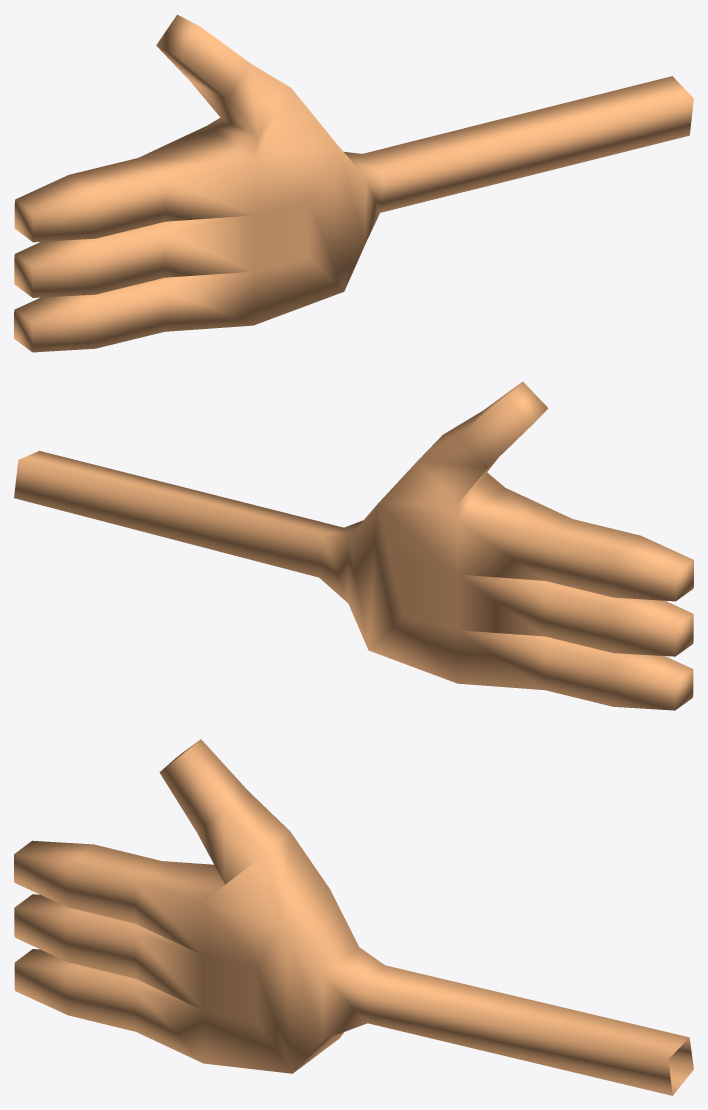
The model's file is Mano_Doofenshmirtz.obj.
3 views of the same model, one above another, from view 1: azimuth 30°, elevation 25°; view 2: azimuth 150°, elevation 25°; view 3: azimuth 330°, elevation 25° (orthographic).
Parts seen in each view (by area): view 1: body.001_Cube.002; view 2: body.001_Cube.002; view 3: body.001_Cube.002.
Boxes of the visible parts, x1=… form: body.001_Cube.002: x1=14, y1=14, x2=693, y2=352; body.001_Cube.002: x1=14, y1=381, x2=693, y2=710; body.001_Cube.002: x1=14, y1=739, x2=693, y2=1095.
Size of the model in its own units: 120 by 51.04 by 15.25.
